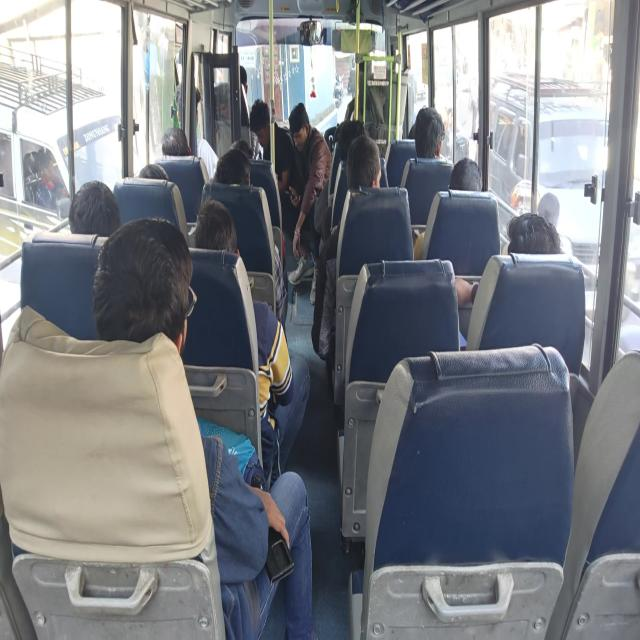person: (128, 256, 196, 378), (70, 180, 126, 248), (508, 216, 566, 268), (355, 149, 386, 217), (196, 209, 233, 258), (346, 58, 387, 102), (134, 158, 171, 203), (450, 160, 487, 202), (214, 156, 254, 191), (419, 106, 444, 157), (246, 100, 276, 140), (177, 84, 213, 117), (288, 115, 312, 157), (222, 65, 254, 94), (335, 121, 358, 160), (158, 125, 185, 152), (234, 136, 254, 157)
